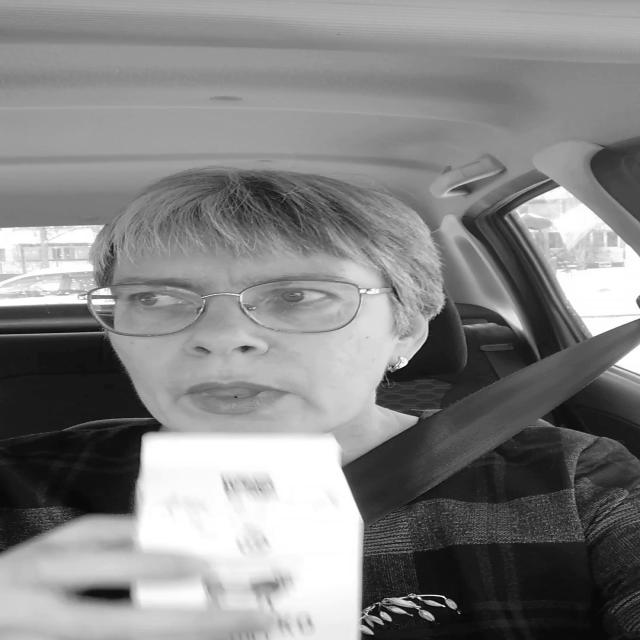Drinking: (107, 421, 380, 640)
Seatbelt: (354, 323, 637, 523)
